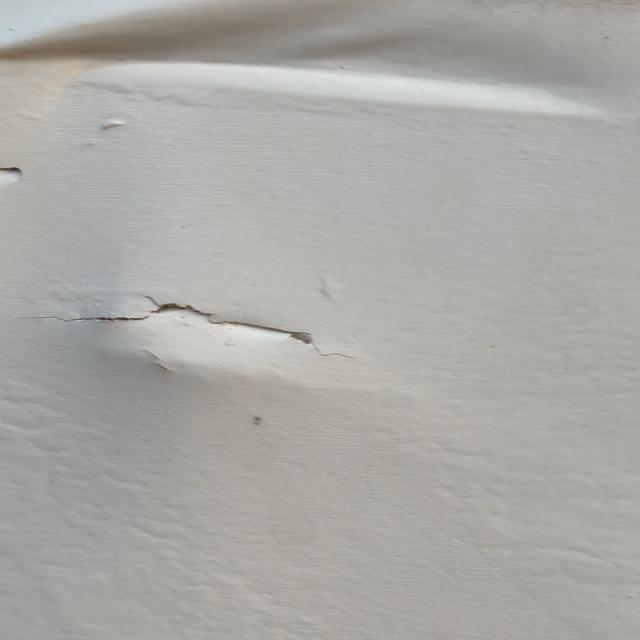Dents or Deformation: (1, 1, 640, 132)
Scratches: (24, 292, 380, 373)
